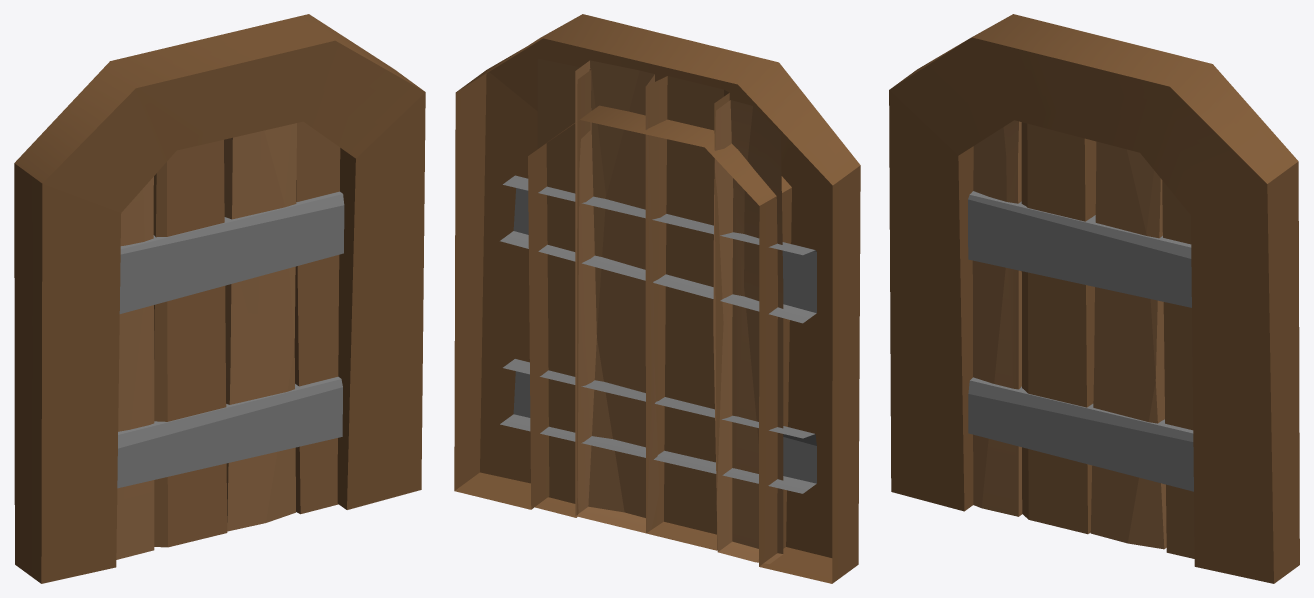
Rendered from House_Gate_C.fbx.
3 renders of one model, left to right at view 1: azimuth 30°, elevation 25°; view 2: azimuth 150°, elevation 25°; view 3: azimuth 330°, elevation 25°, orthographic.
Visible parts, largest first — view 1: House_Gate_C; view 2: House_Gate_C; view 3: House_Gate_C.
Boxes of the visible parts, left/top/right/bottom form: House_Gate_C: left=14, top=14, right=425, bottom=583; House_Gate_C: left=454, top=14, right=860, bottom=583; House_Gate_C: left=889, top=14, right=1299, bottom=583.
Bounding box in the file's own units: 148 × 179 × 23.23.
